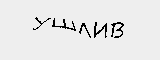В: (109, 19, 125, 39)
И: (93, 19, 108, 42)
Л: (76, 20, 91, 40)
У: (30, 14, 52, 34)
Ш: (51, 16, 77, 34)
